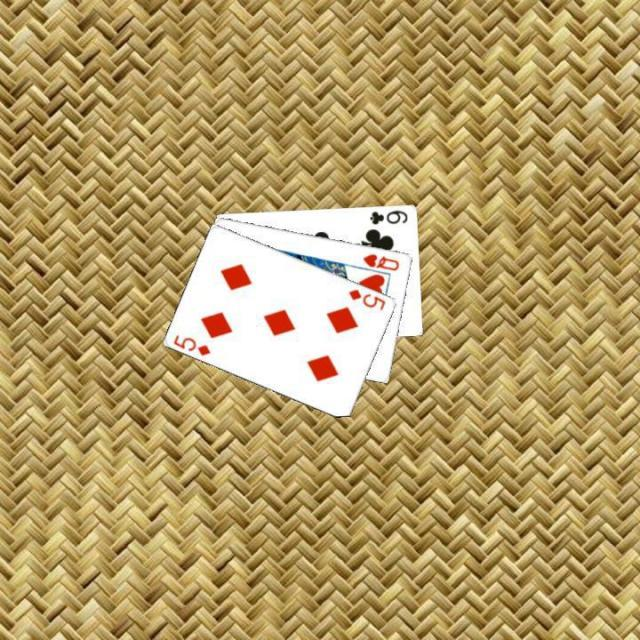5D: (344, 285, 388, 312), (170, 330, 212, 358)
6C: (366, 206, 409, 226)
QH: (359, 250, 401, 272)
